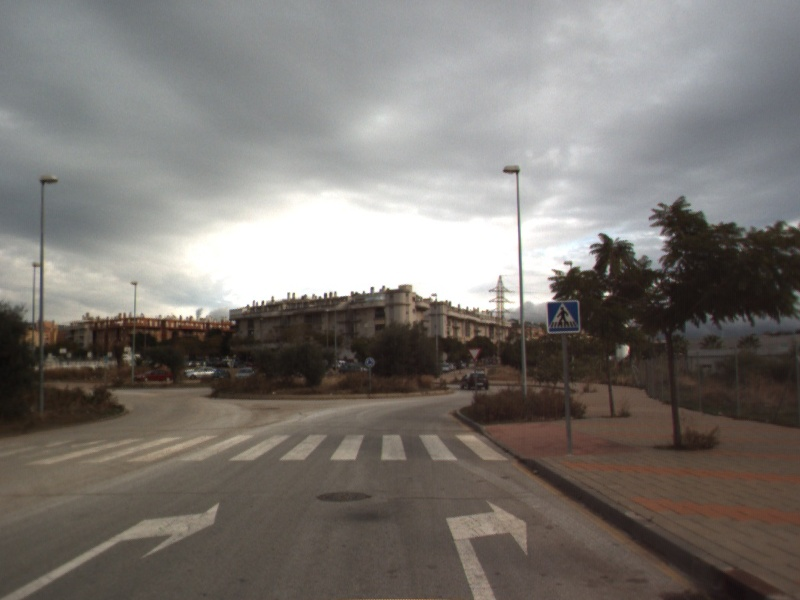RIGHT: (1, 499, 222, 600), (444, 498, 530, 600)
